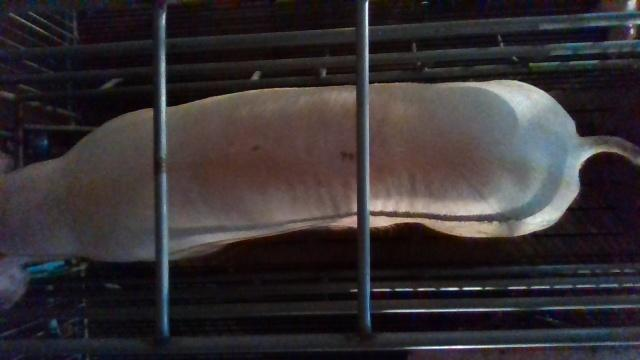sow-stand-feed: (0, 78, 640, 315)
